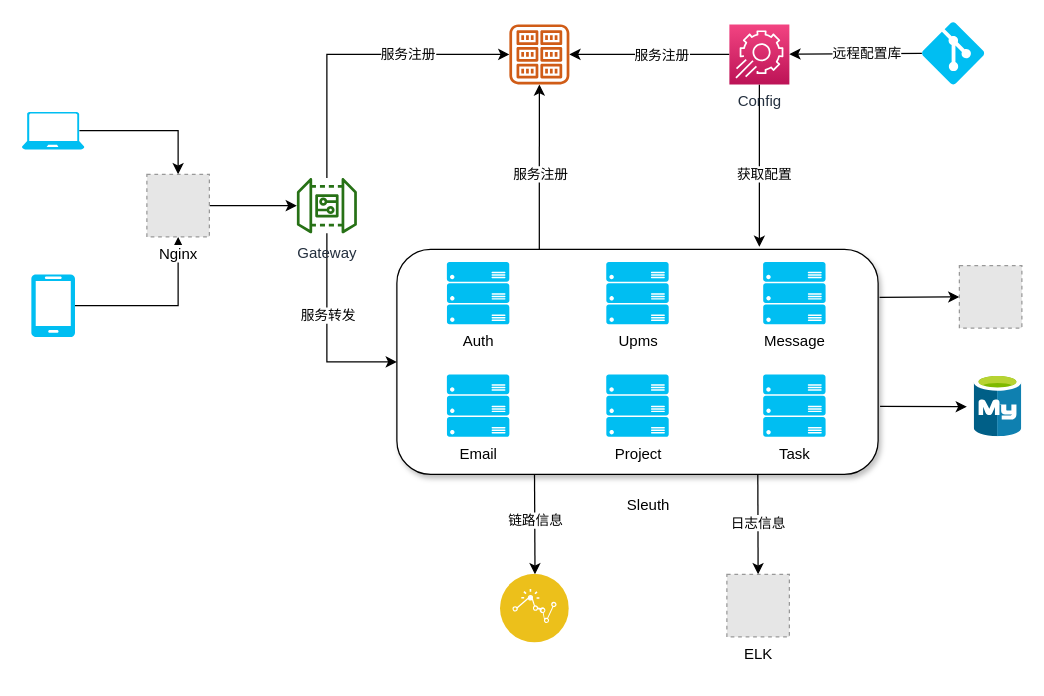
The diagram is 1044 pixels wide and 696 high, and some of its shapes have lost their labels. Grey dashed boxes stand in for pictures. Each missing label, with the centre of its shape:
Git: the point at 952,52
Mobile: the point at 52,305
PC: the point at 52,130
Registry: the point at 539,54
Zipkin: the point at 534,608
